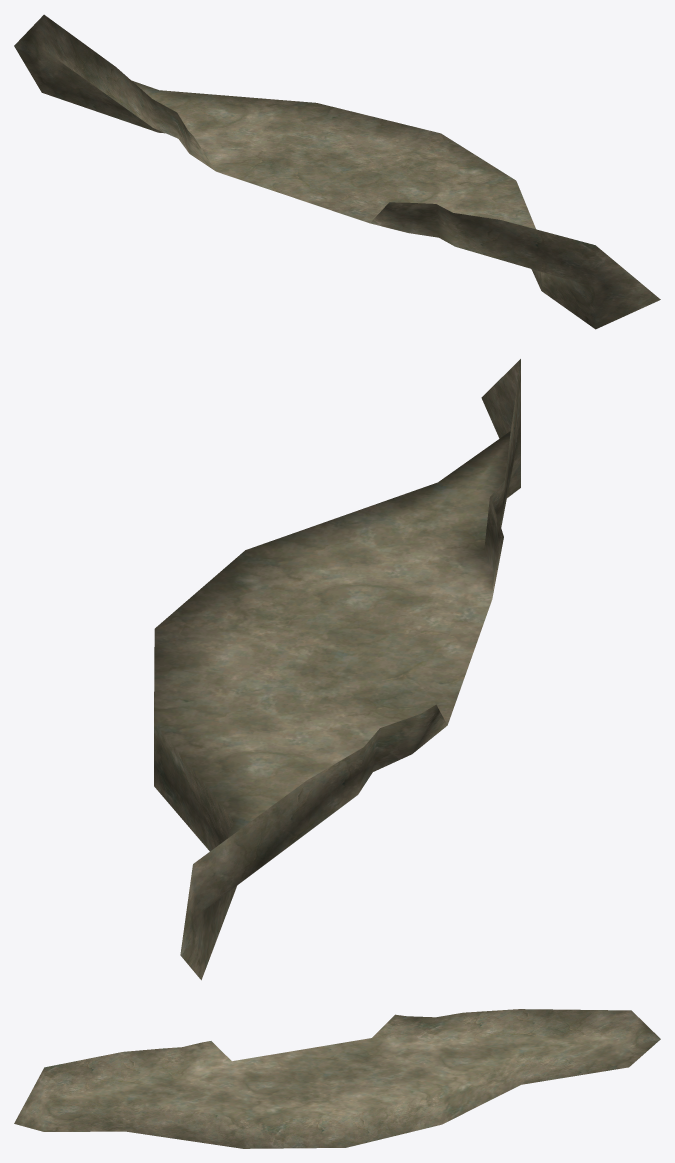
The model's file is OVERHILL_A_01_OBJECT148.fbx.
3 renders of one model, top to bottom at view 1: azimuth 30°, elevation 25°; view 2: azimuth 150°, elevation 25°; view 3: azimuth 270°, elevation 25°, orthographic. The views are drawn at different scales.
Parts seen in each view (by area): view 1: OVERHILL_A_01_OBJECT148; view 2: OVERHILL_A_01_OBJECT148; view 3: OVERHILL_A_01_OBJECT148.
Boxes of the visible parts, x1,y1,x2,y2 form: OVERHILL_A_01_OBJECT148: [14, 14, 660, 329]; OVERHILL_A_01_OBJECT148: [154, 359, 520, 980]; OVERHILL_A_01_OBJECT148: [14, 1009, 660, 1148].
Bounding box in the file's own units: 25888 × 9064 × 82189.
Materials: 1 (1 with a texture image).
